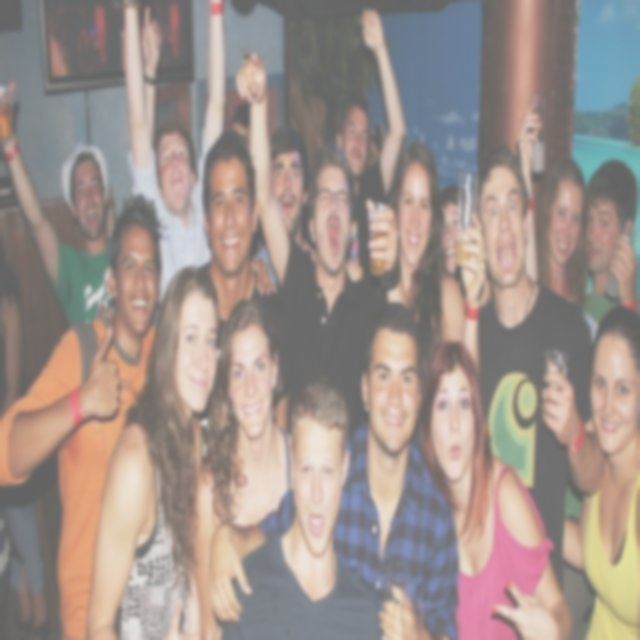pessoa: (205, 298, 462, 640), (0, 191, 164, 639), (231, 49, 387, 442), (477, 142, 607, 600), (0, 2, 167, 332), (86, 263, 222, 639), (417, 338, 575, 639), (220, 381, 384, 639), (190, 296, 296, 640), (194, 128, 292, 468), (122, 2, 230, 299), (386, 137, 488, 399), (562, 302, 640, 640), (0, 233, 49, 640), (330, 4, 408, 209), (574, 158, 640, 352), (247, 126, 316, 294), (536, 152, 590, 309), (436, 178, 468, 282), (231, 100, 252, 156), (105, 184, 118, 240)
